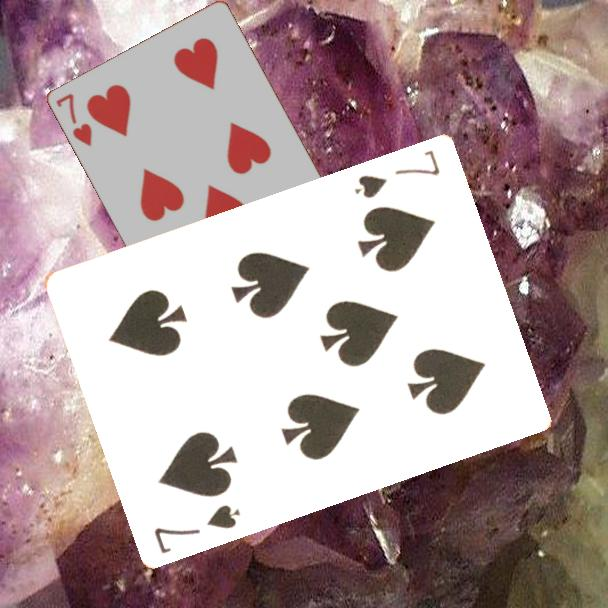h07: (53, 90, 95, 150)
s07: (150, 500, 244, 556), (351, 146, 444, 201)
